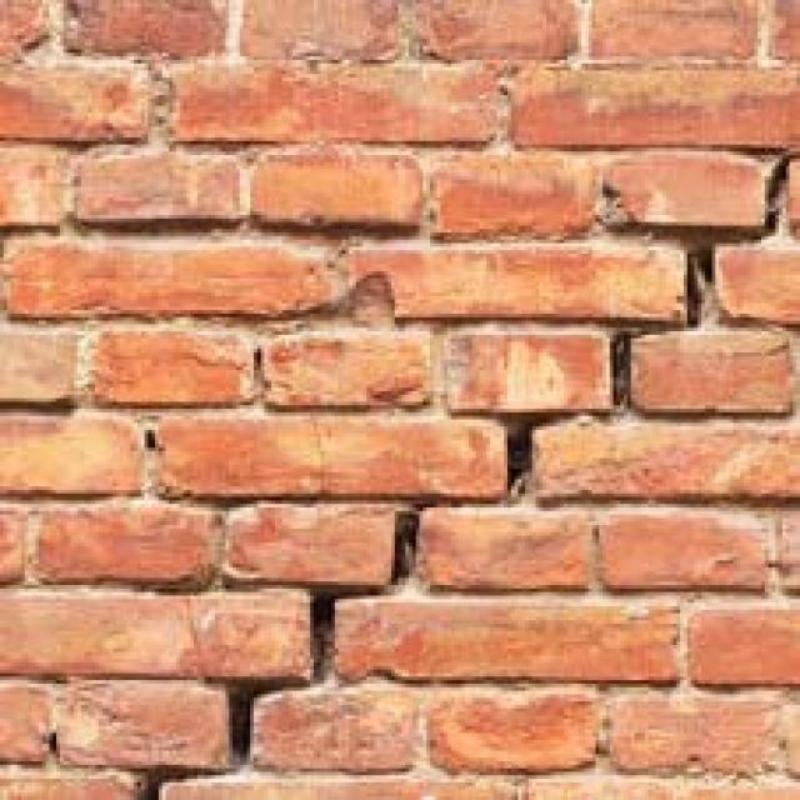crack: (139, 157, 792, 799)
